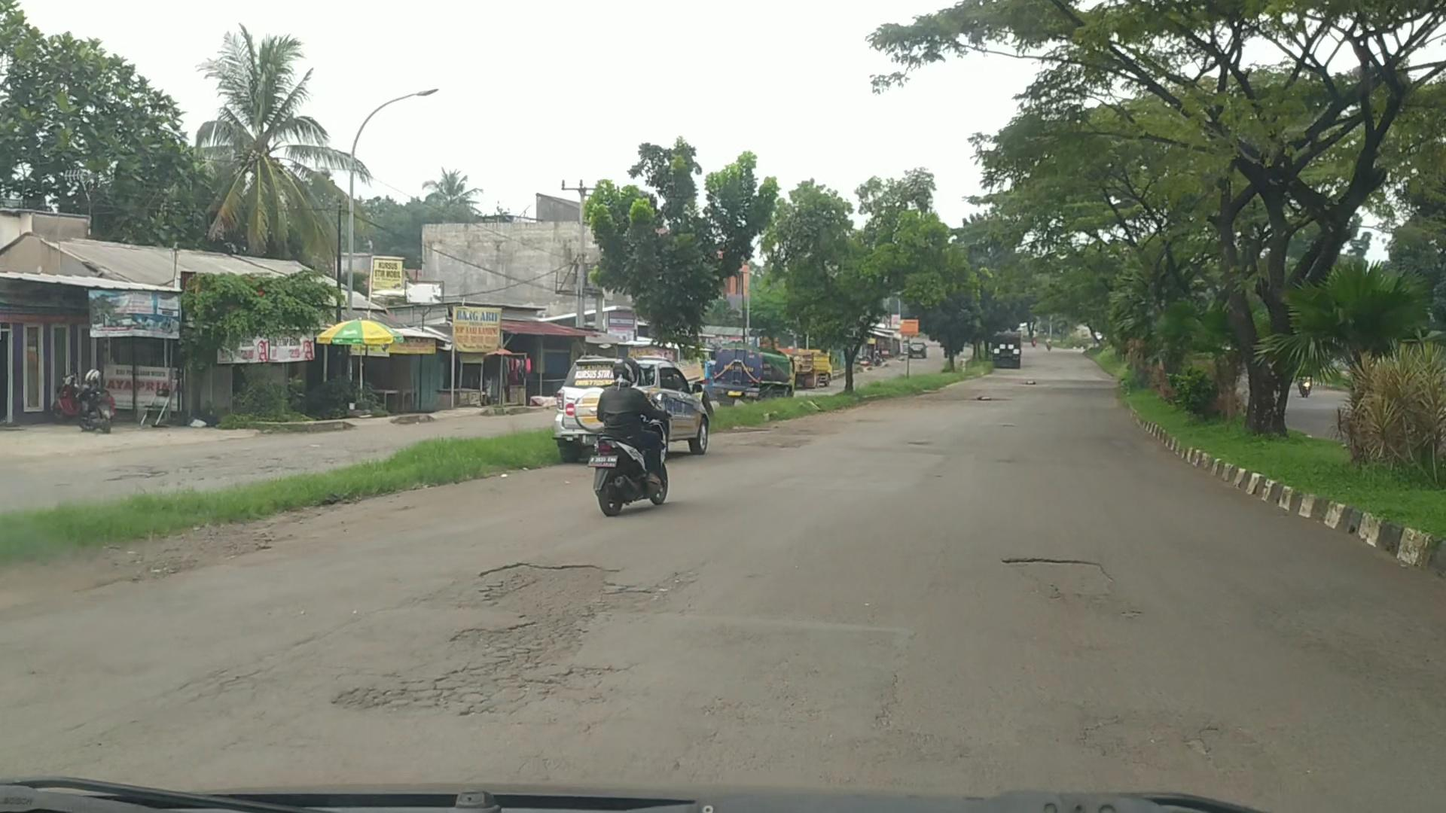pothole: (391, 560, 663, 711), (998, 556, 1114, 598)
